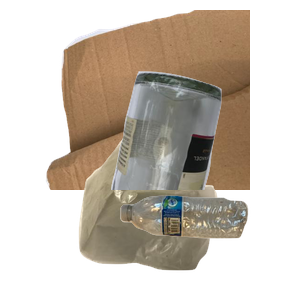cardboard: (43, 10, 283, 190)
glass: (109, 69, 300, 249)
plastic: (118, 193, 300, 300)
trash: (76, 124, 287, 300)
